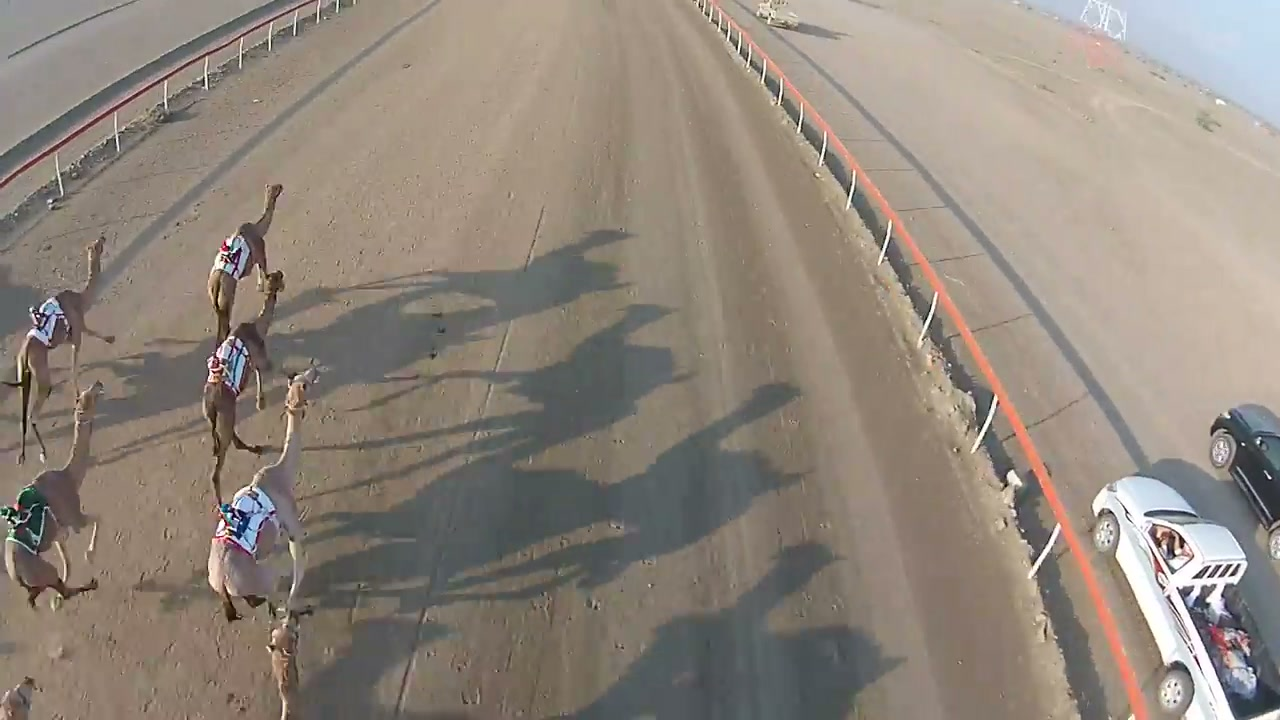animal_foot_print: (84, 495, 262, 719), (391, 615, 513, 702)
